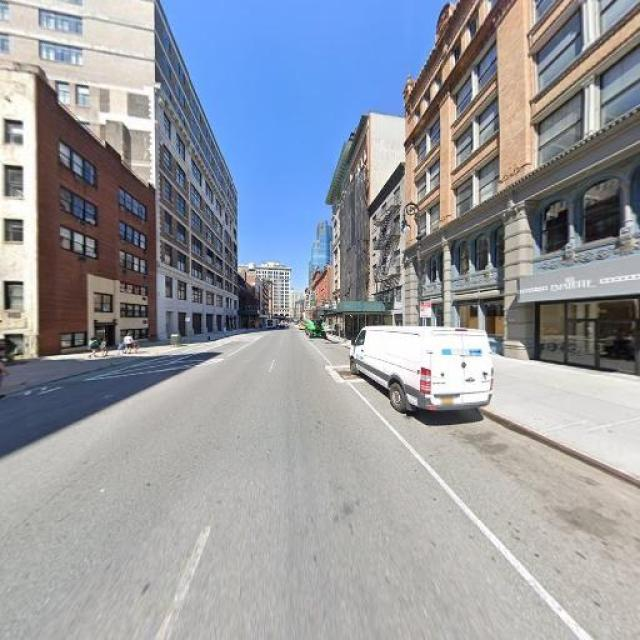Building: (407, 1, 640, 380), (40, 85, 153, 357), (158, 8, 234, 339), (335, 114, 370, 334), (373, 162, 404, 339)
